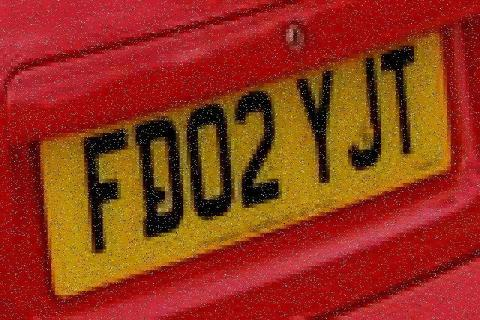LicensePlate: (27, 23, 475, 294)
